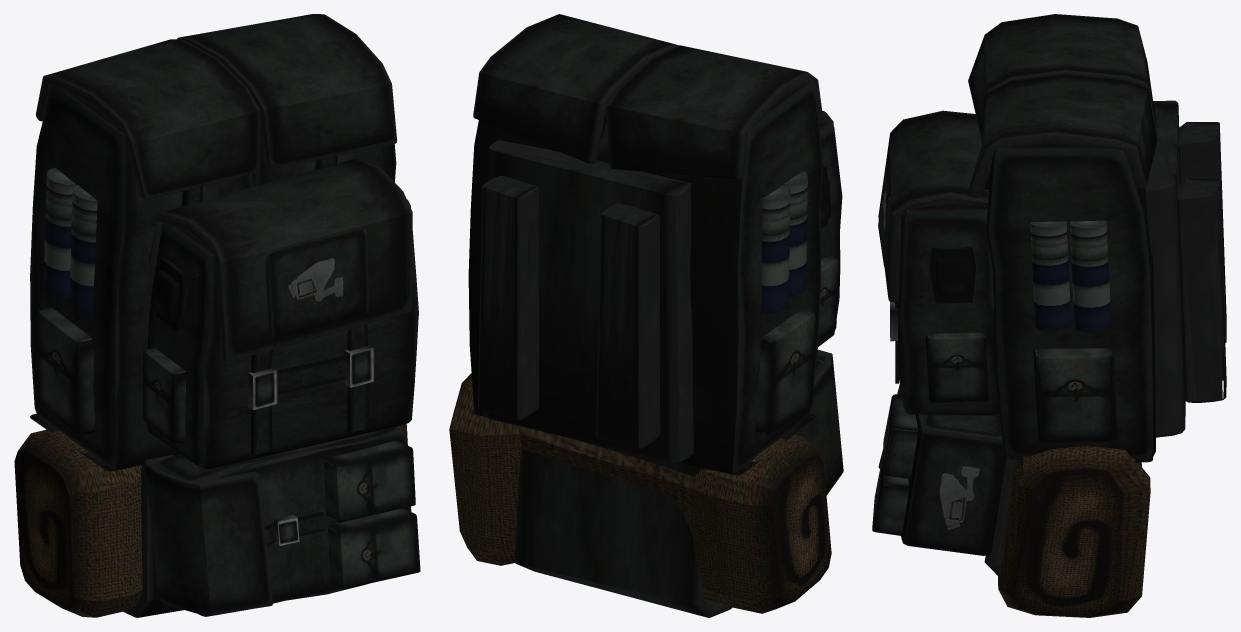
The model's file is cameraman_backpack.glb.
The picture shows the model from 3 angles, left to right: view 1: azimuth 30°, elevation 25°; view 2: azimuth 150°, elevation 25°; view 3: azimuth 270°, elevation 25°; orthographic projection. The views are drawn at different scales.
Parts seen in each view (by area): view 1: TitanJetpack_Alliance_Backpack_Texture_0; view 2: TitanJetpack_Alliance_Backpack_Texture_0; view 3: TitanJetpack_Alliance_Backpack_Texture_0.
Boxes of the visible parts, box(x1,y1,x2,y2) form: TitanJetpack_Alliance_Backpack_Texture_0: box(14, 14, 420, 617); TitanJetpack_Alliance_Backpack_Texture_0: box(449, 14, 843, 617); TitanJetpack_Alliance_Backpack_Texture_0: box(872, 14, 1226, 617).
Size of the model in its own units: 0.9109 by 1.38 by 0.9086.
Materials: 1 (1 with a texture image).
